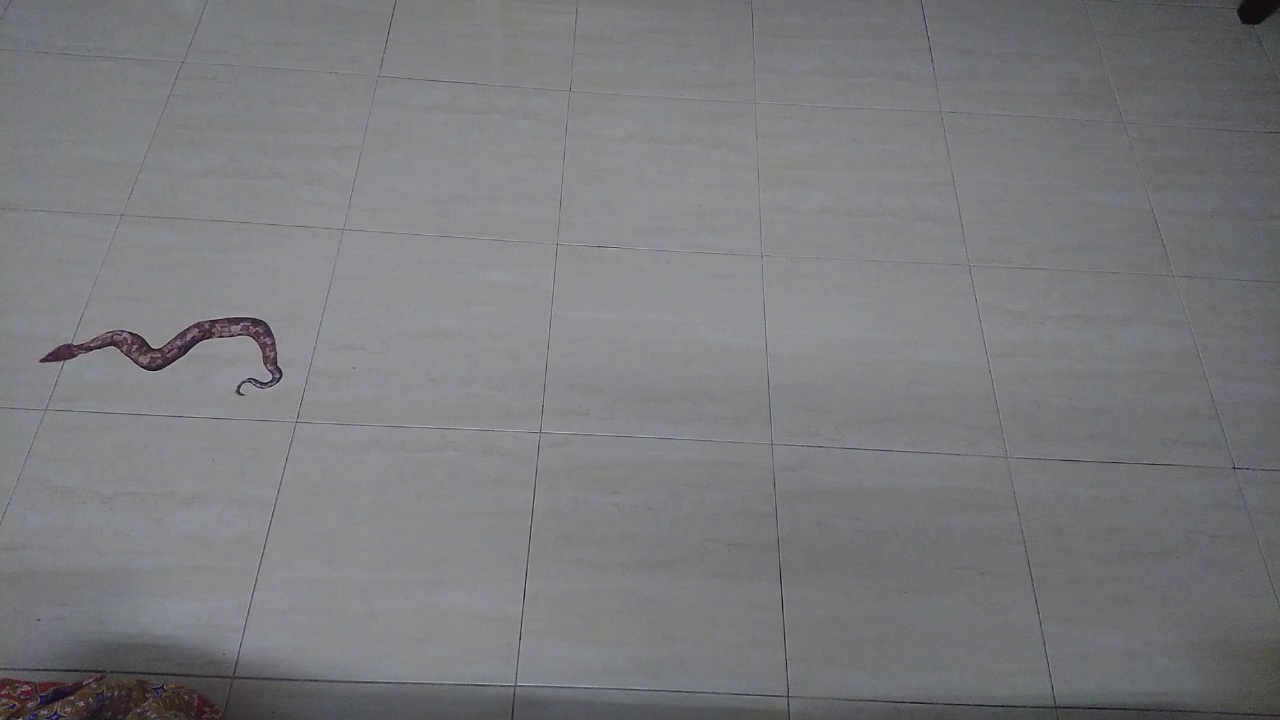snake: (24, 297, 300, 407)
